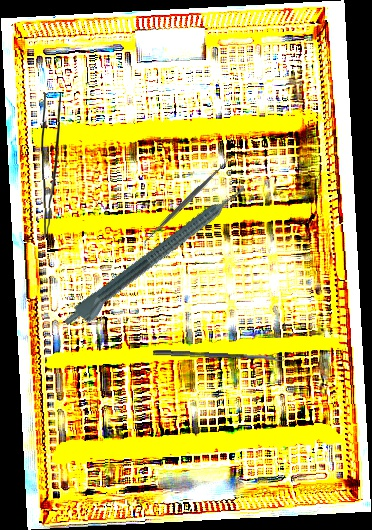Handpiece: (61, 182, 255, 336)
Spatula Surgical: (136, 155, 235, 250)
Surgical Spoon: (152, 349, 285, 363)
Tissue Forceps: (39, 91, 66, 239)
